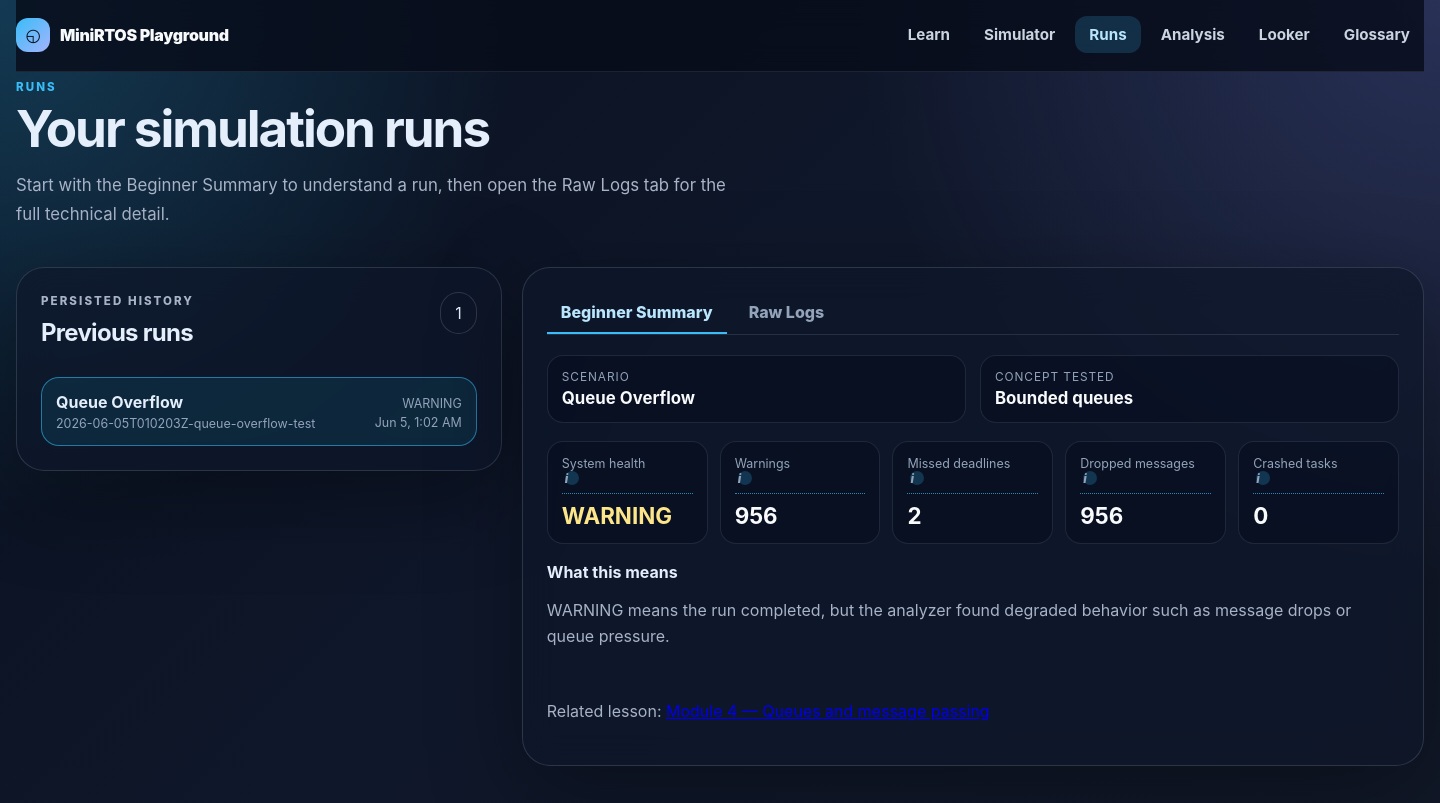
Test: App routing › shows a beginner summary tab and a raw logs tab on the Runs page
expect the tab "Beginner Summary" is shown: met, box [547,292,727,334]
expect the text "Concept tested" is shown: met, box [995,370,1115,384]
Click the tab "Raw Logs". click: (786, 313)
box: [735,292,838,334]
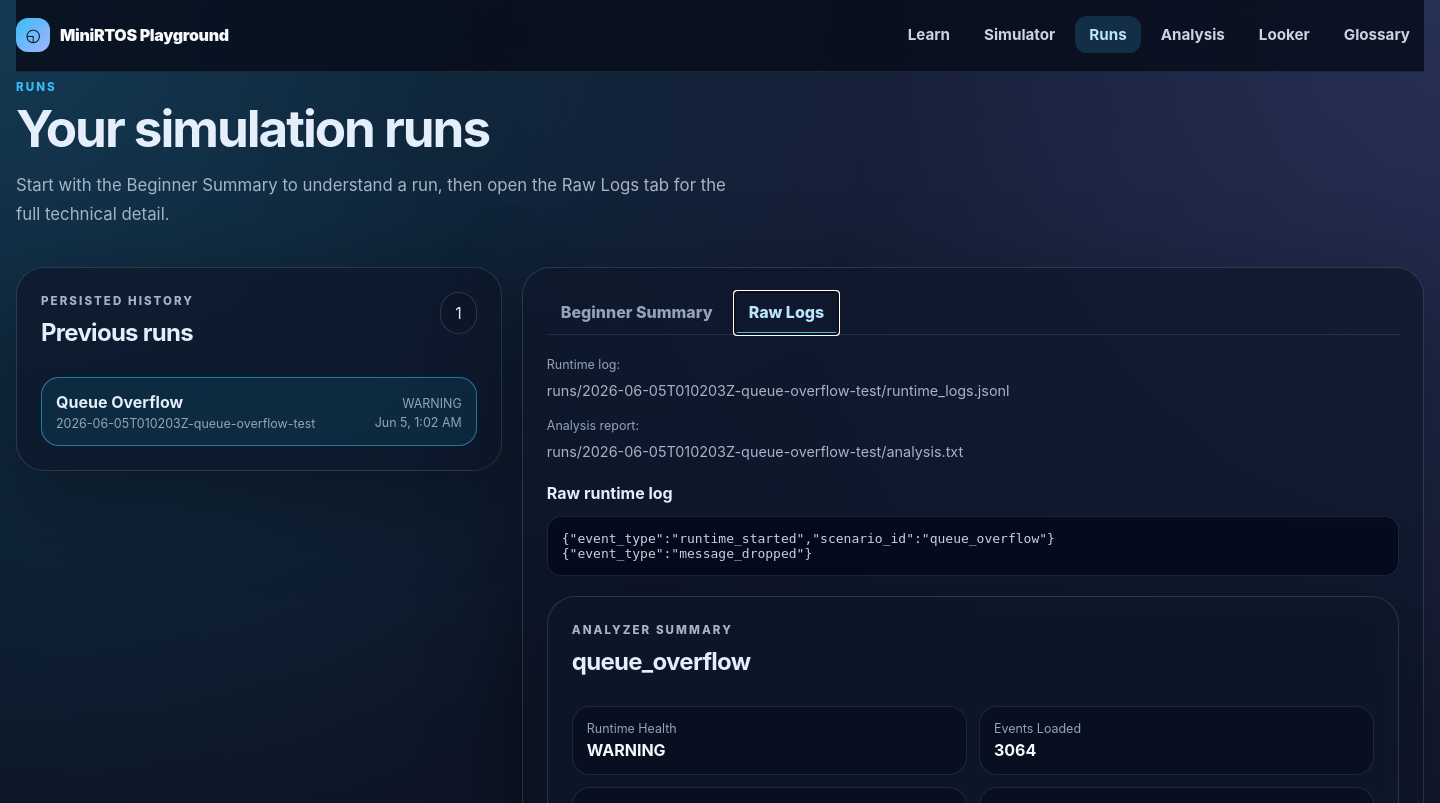
expect the text "runtime_started" is shown: met, box [562,531,1055,561]
